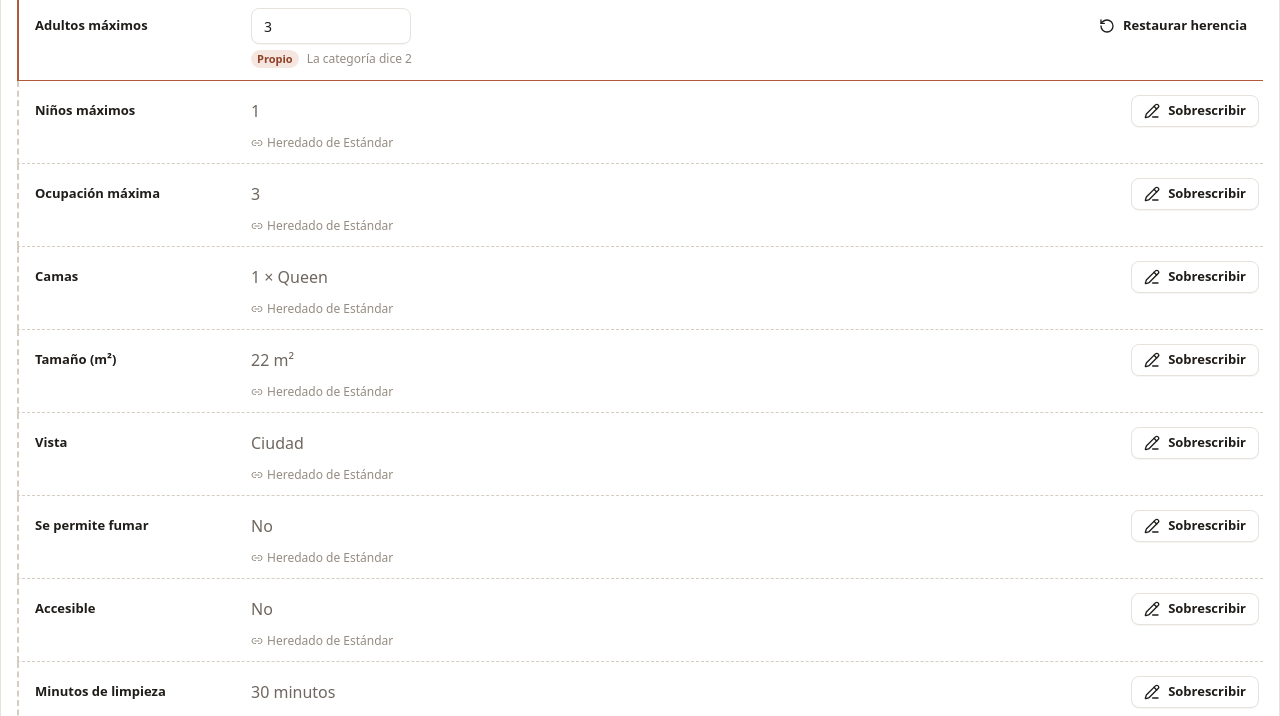
it: RoomEditorPage › overrides a field starting from the inherited value and restores another, then saves only the overrides left
The width and height of the screenshot is (1280, 716).
(page scrolled)
Click the button with aria-label "Sobrescribir Tamaño (m²)" at (1195, 360), box [1131, 344, 1259, 376]
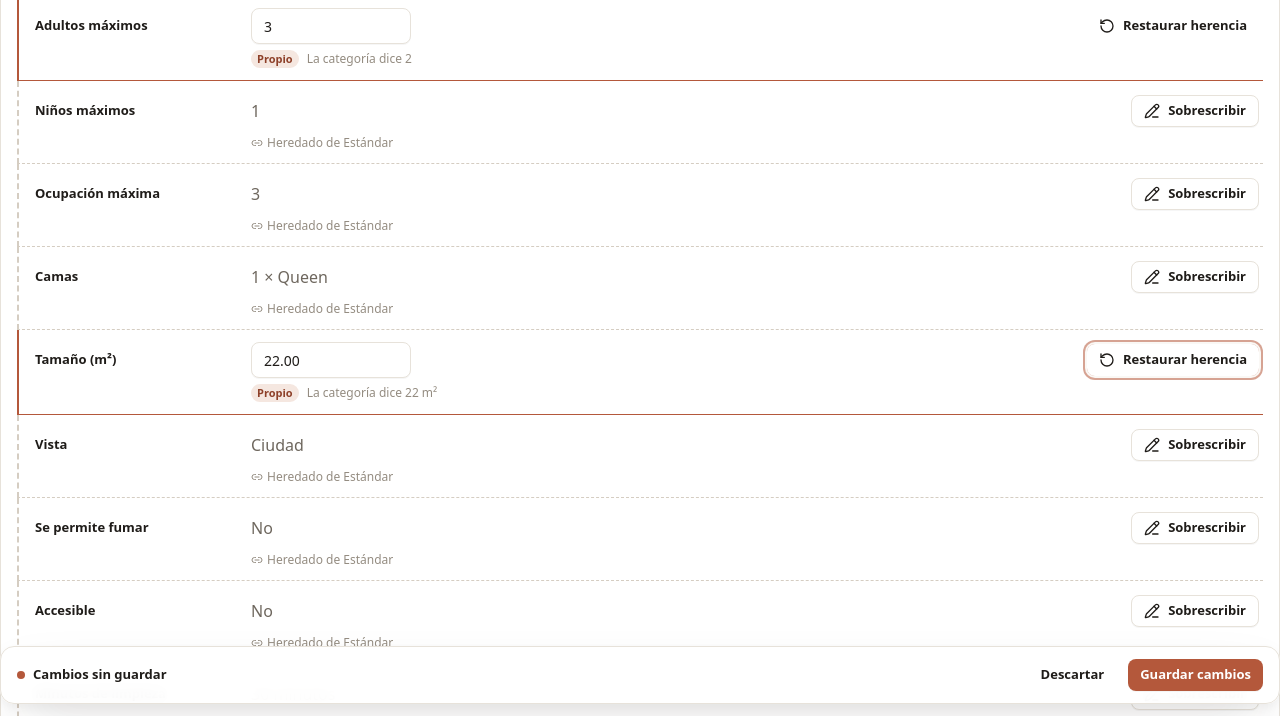
Now the number field labelled "Tamaño (m²)" holds "22"
Replace the text in the number field labelled "Tamaño (m²)" with "26" at (331, 360), box [251, 342, 411, 378]
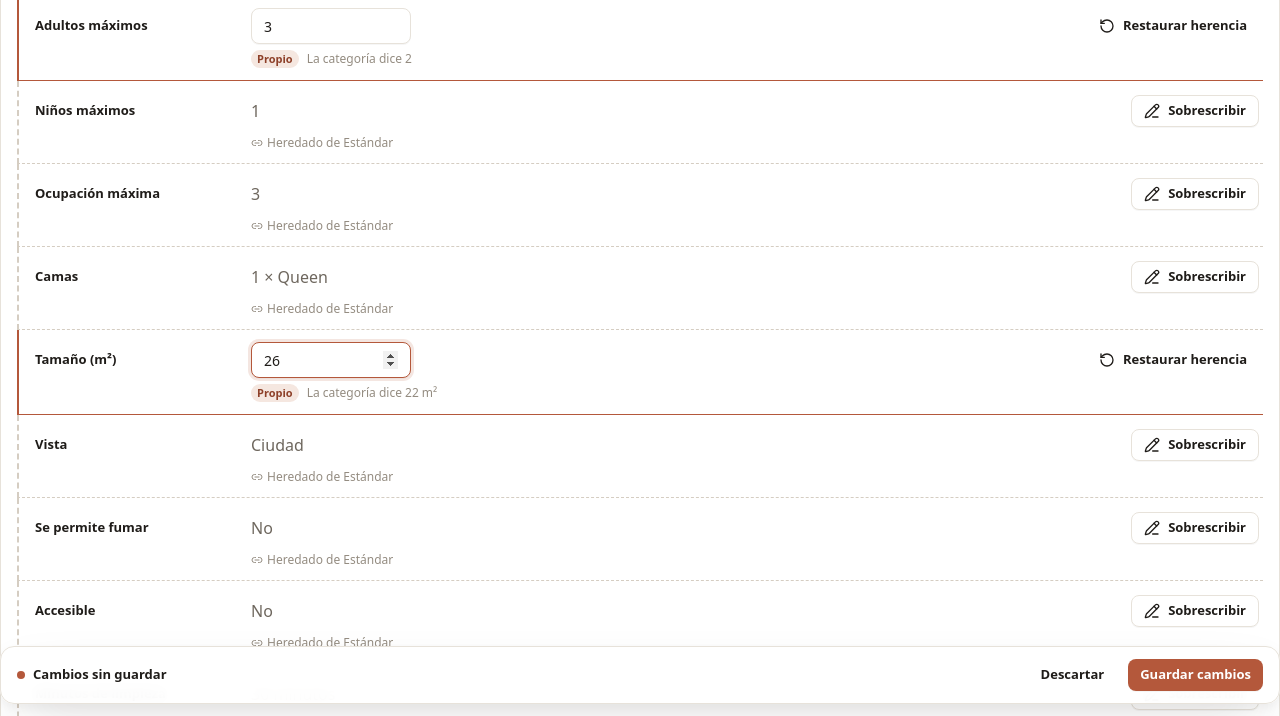
Click the button with aria-label "Restaurar herencia de Adultos máximos" at (1173, 26), box [1087, 10, 1259, 42]
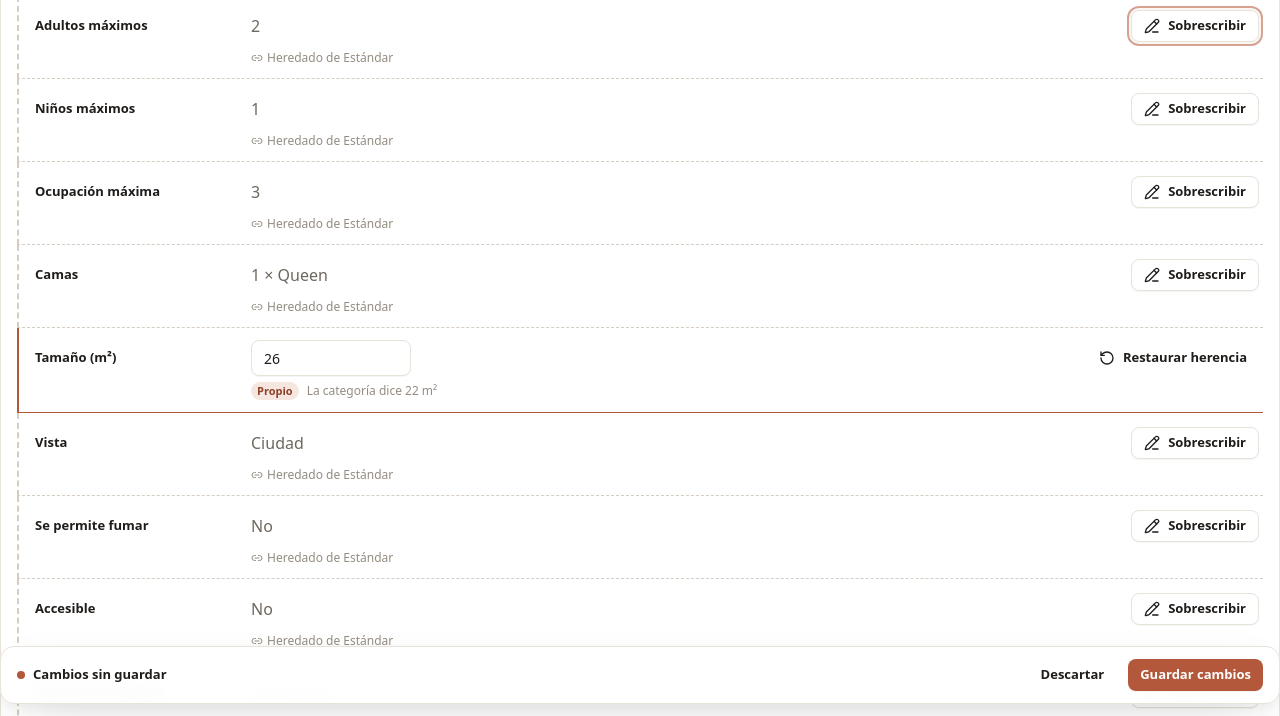
Now the text "Heredado de Estándar" below "Adultos máximos" is shown, box [267, 49, 393, 66]
Click the button "Guardar cambios" at (1196, 675), box [1128, 659, 1263, 691]
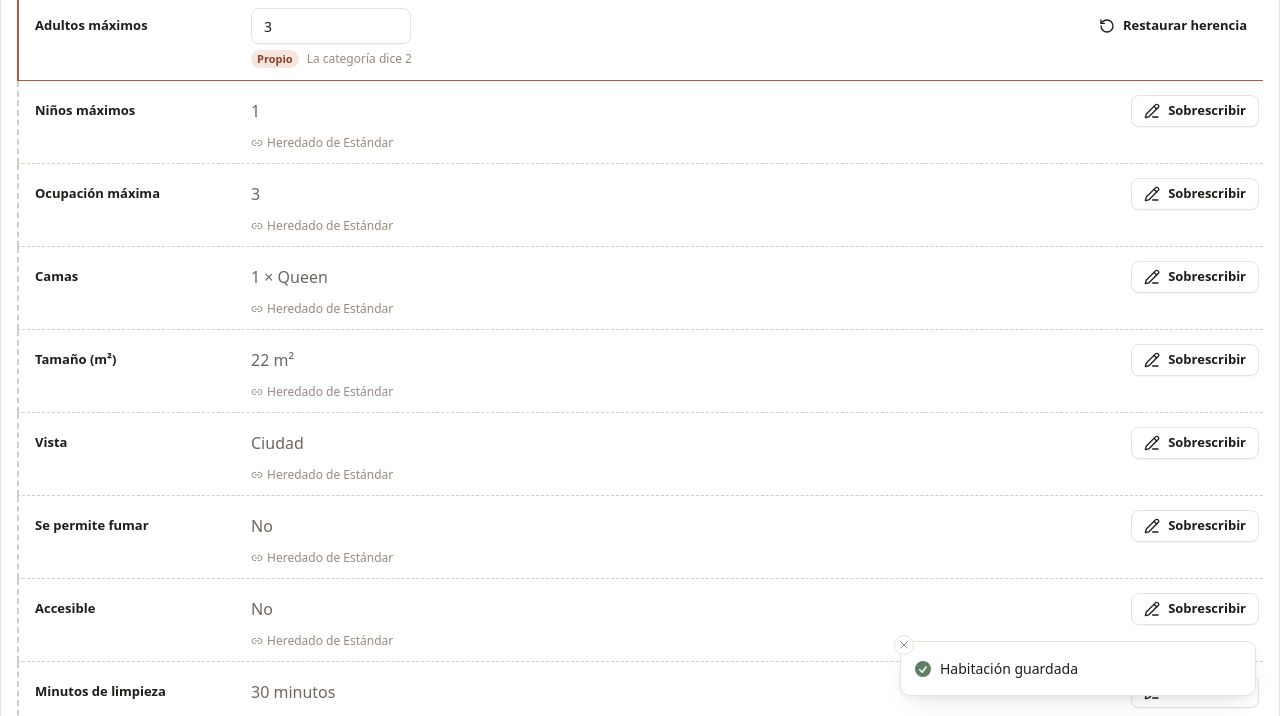
Now the text "Habitación guardada" is shown, box [940, 658, 1078, 679]
